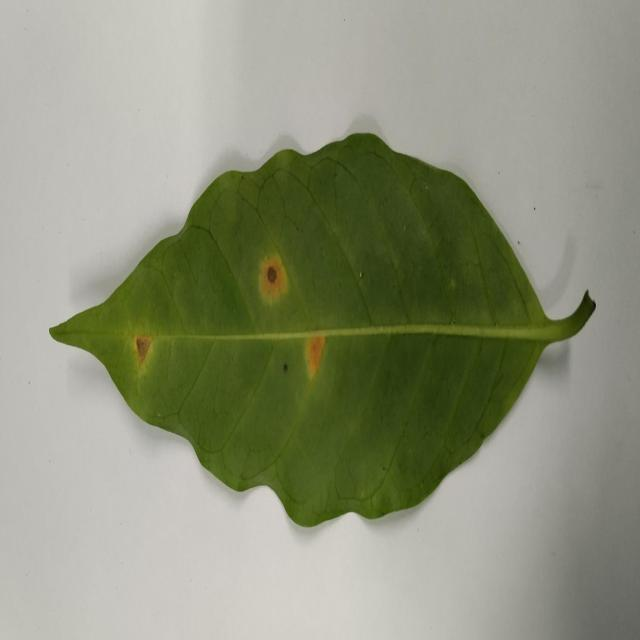rust: (258, 252, 288, 304), (304, 332, 327, 382), (131, 332, 157, 365)
